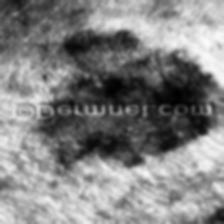Potentially Malignant Skin Tumors: (51, 34, 204, 158)
